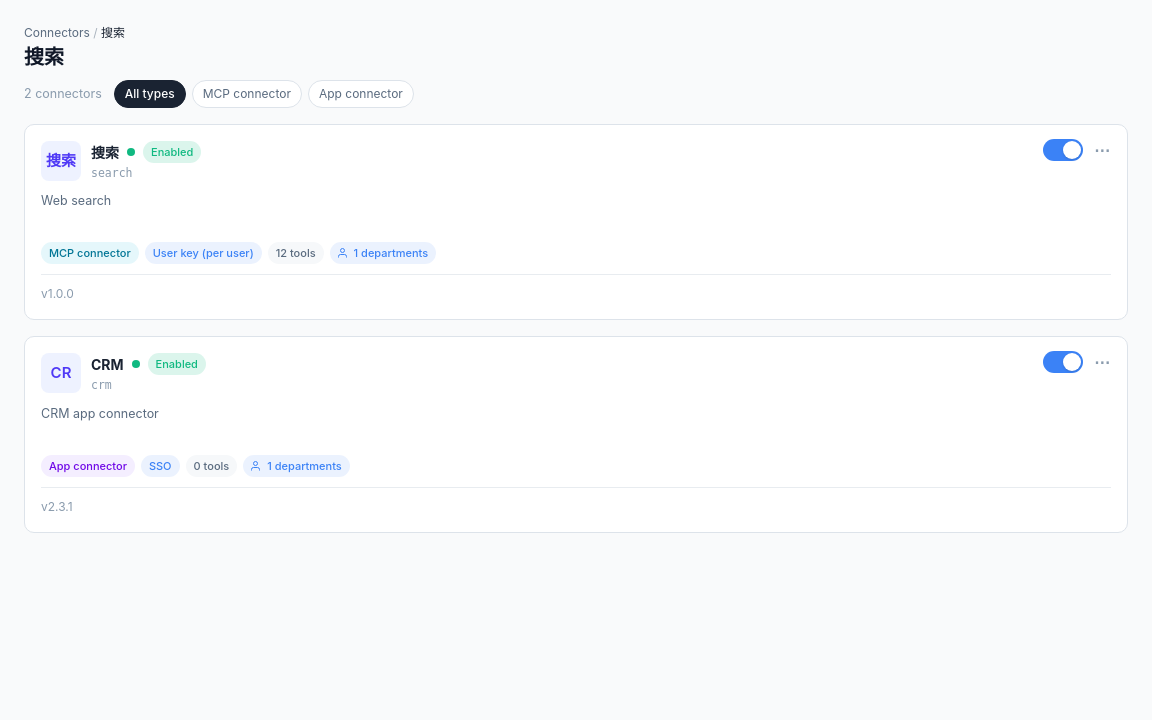
ConnectorCardGrid › selecting the MCP chip hides app connectors and vice versa
Expected: the text "search" is shown, x1=91 y1=166 x2=132 y2=180
Expected: the text "crm" is shown, x1=91 y1=378 x2=112 y2=392
Click the button "MCP connector": (247, 94) x1=192 y1=80 x2=302 y2=108
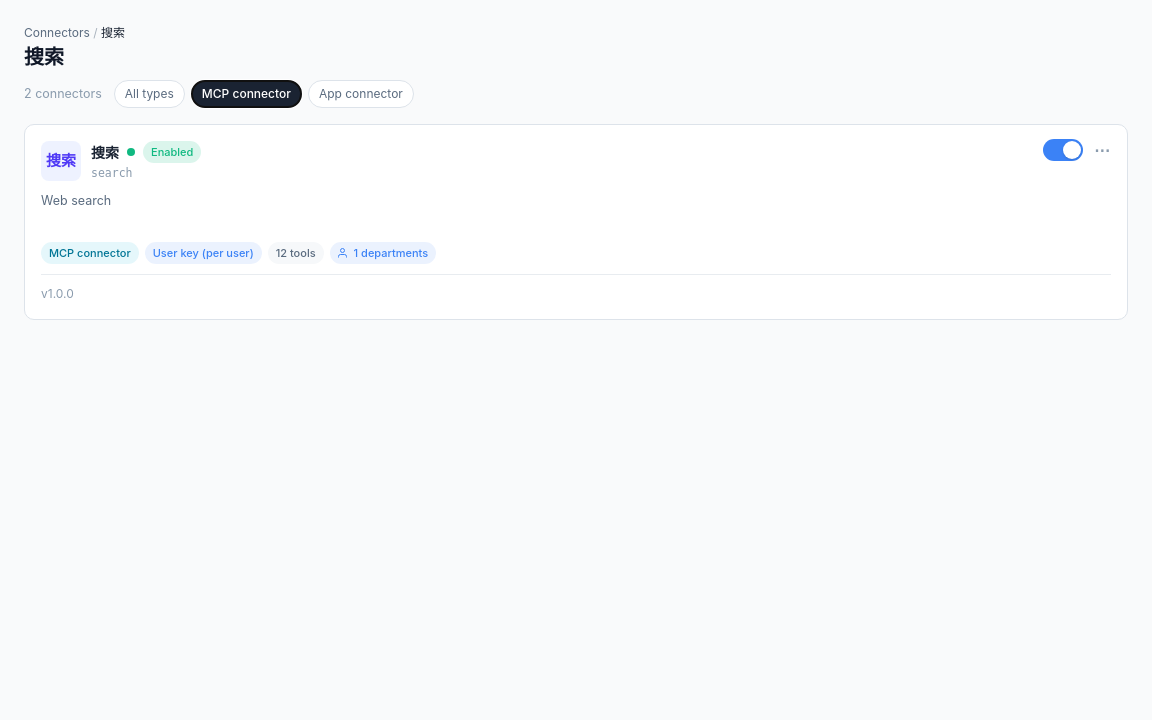
Expected: the text "search" is shown, x1=91 y1=166 x2=132 y2=180
Expected: the button "CRM" is gone
Click the button "App connector": (361, 94) x1=308 y1=80 x2=414 y2=108
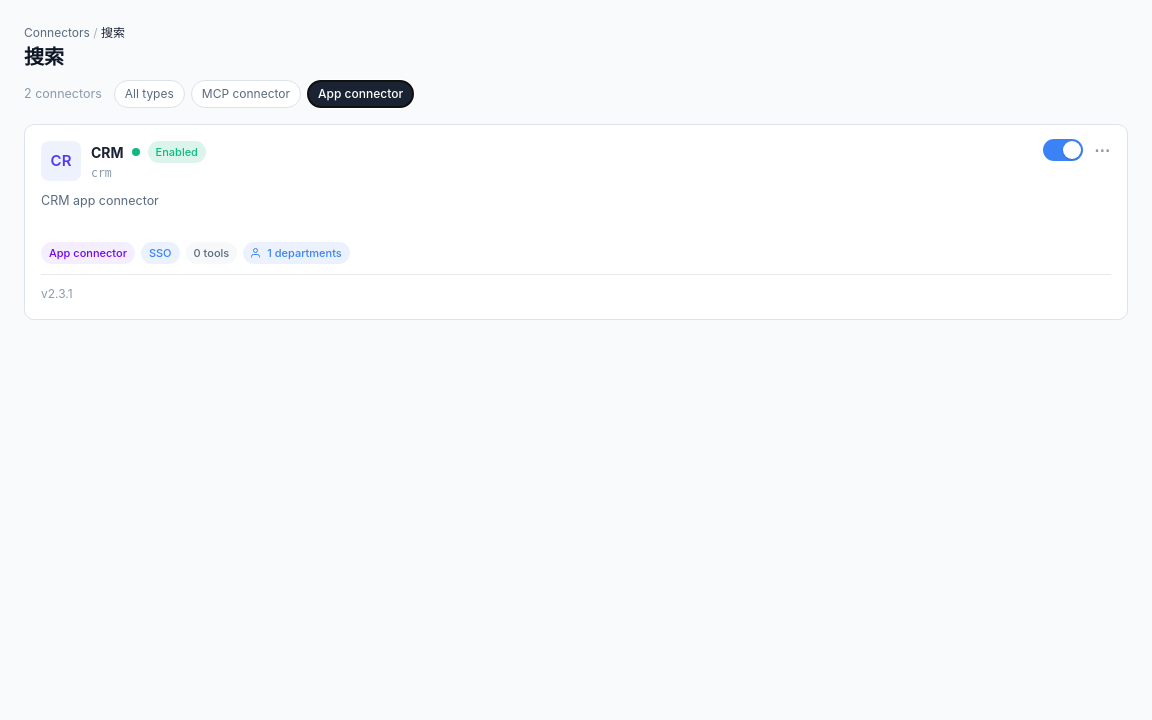
Expected: the button "search" is gone
Expected: the text "crm" is shown, x1=91 y1=166 x2=112 y2=180
